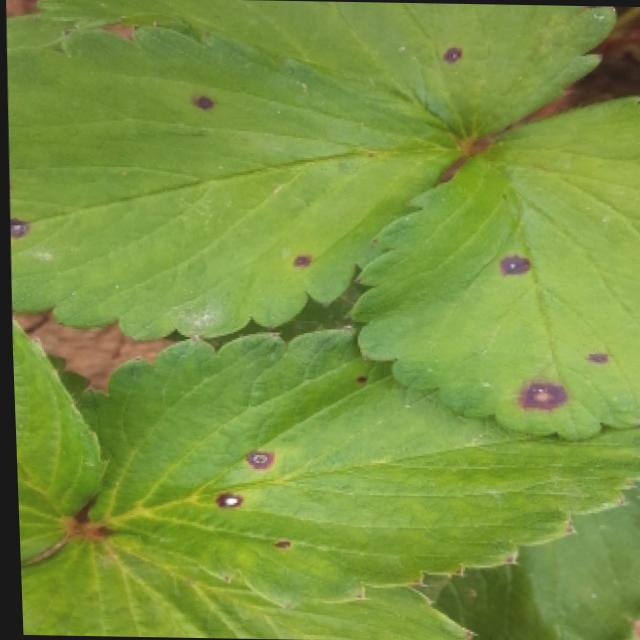Leaf Spot: (70, 326, 640, 607), (6, 18, 461, 341), (344, 91, 640, 440), (32, 0, 616, 139), (16, 523, 473, 640)
